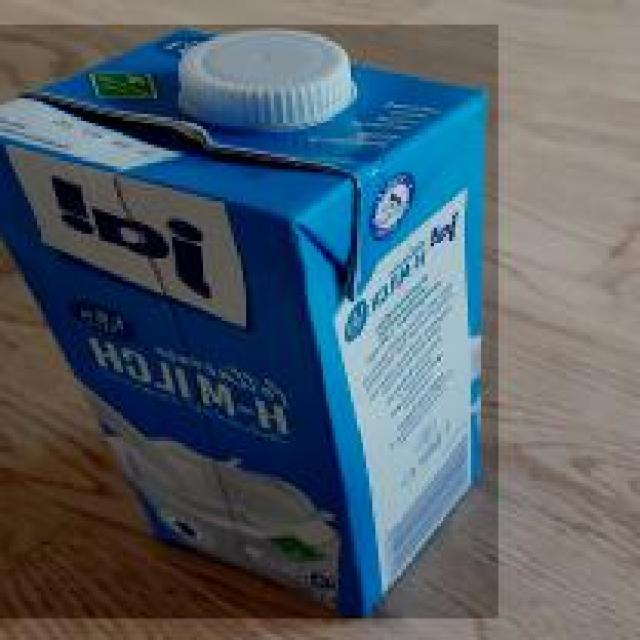milk: (0, 21, 498, 621)
